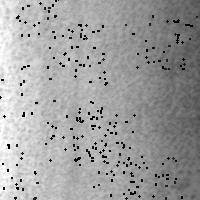pitted_surface: (1, 1, 200, 200), (45, 100, 105, 160), (47, 24, 105, 83), (125, 15, 183, 68), (74, 112, 133, 164), (88, 151, 146, 200), (123, 157, 181, 200), (0, 144, 36, 200), (16, 0, 73, 34), (0, 64, 36, 117), (166, 0, 200, 49)
